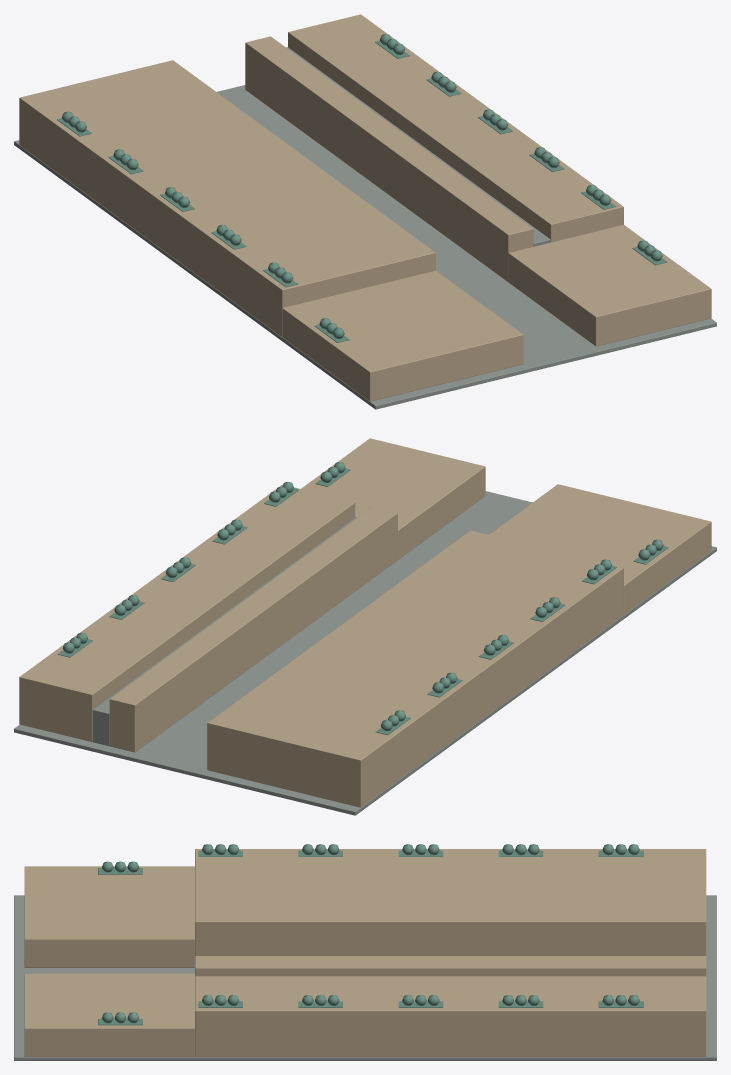
Rendered from canal-boats-and-lock-operations-canal-boats-and-lock-o-9f88d1a8__31664.glb.
3 renders of one model, top to bottom at view 1: azimuth 30°, elevation 25°; view 2: azimuth 150°, elevation 25°; view 3: azimuth 270°, elevation 25°, orthographic. The views are drawn at different scales.
Visible parts, largest first — view 1: canal-boats-and-lock-operations-stepped-canal-landscape-base (×3); view 2: canal-boats-and-lock-operations-stepped-canal-landscape-base (×3); view 3: canal-boats-and-lock-operations-stepped-canal-landscape-base (×3).
Boxes of the visible parts, box(x1,y1,x2,y2) form: canal-boats-and-lock-operations-stepped-canal-landscape-base (×3): box(14, 14, 716, 409); canal-boats-and-lock-operations-stepped-canal-landscape-base (×3): box(14, 438, 716, 815); canal-boats-and-lock-operations-stepped-canal-landscape-base (×3): box(14, 844, 716, 1060).
Bounding box in the file's own units: 18 × 3.12 × 33.
